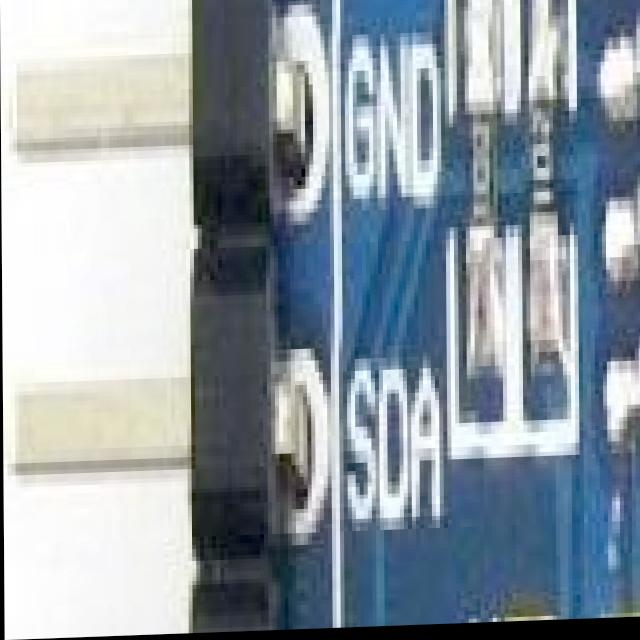IC: (628, 0, 640, 462)
connector: (0, 0, 340, 640), (484, 593, 640, 626)
resistor: (456, 6, 501, 417), (524, 20, 568, 361)
